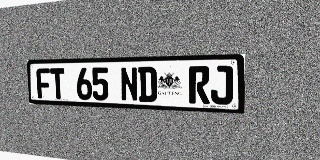5: (92, 67, 109, 101)
6: (76, 68, 92, 100)
D: (138, 67, 157, 102)
F: (36, 68, 51, 99)
J: (211, 66, 233, 105)
N: (120, 67, 138, 102)
R: (189, 66, 210, 104)
T: (50, 68, 66, 99)
